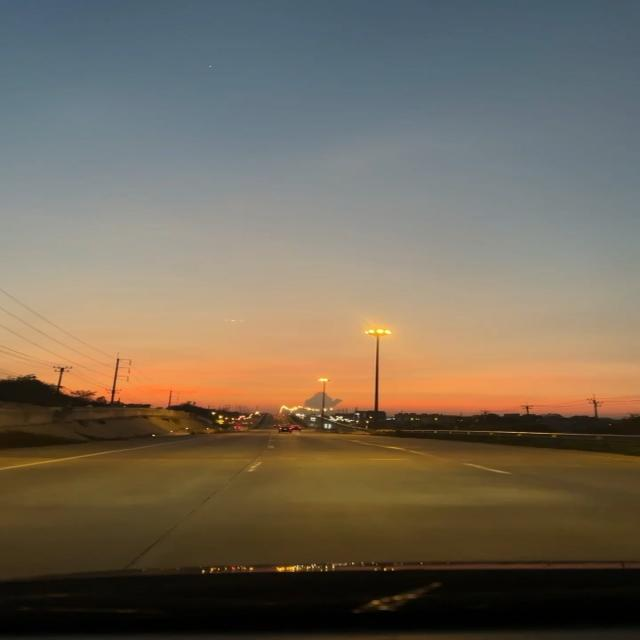Poth-hole: (228, 457, 490, 516)
